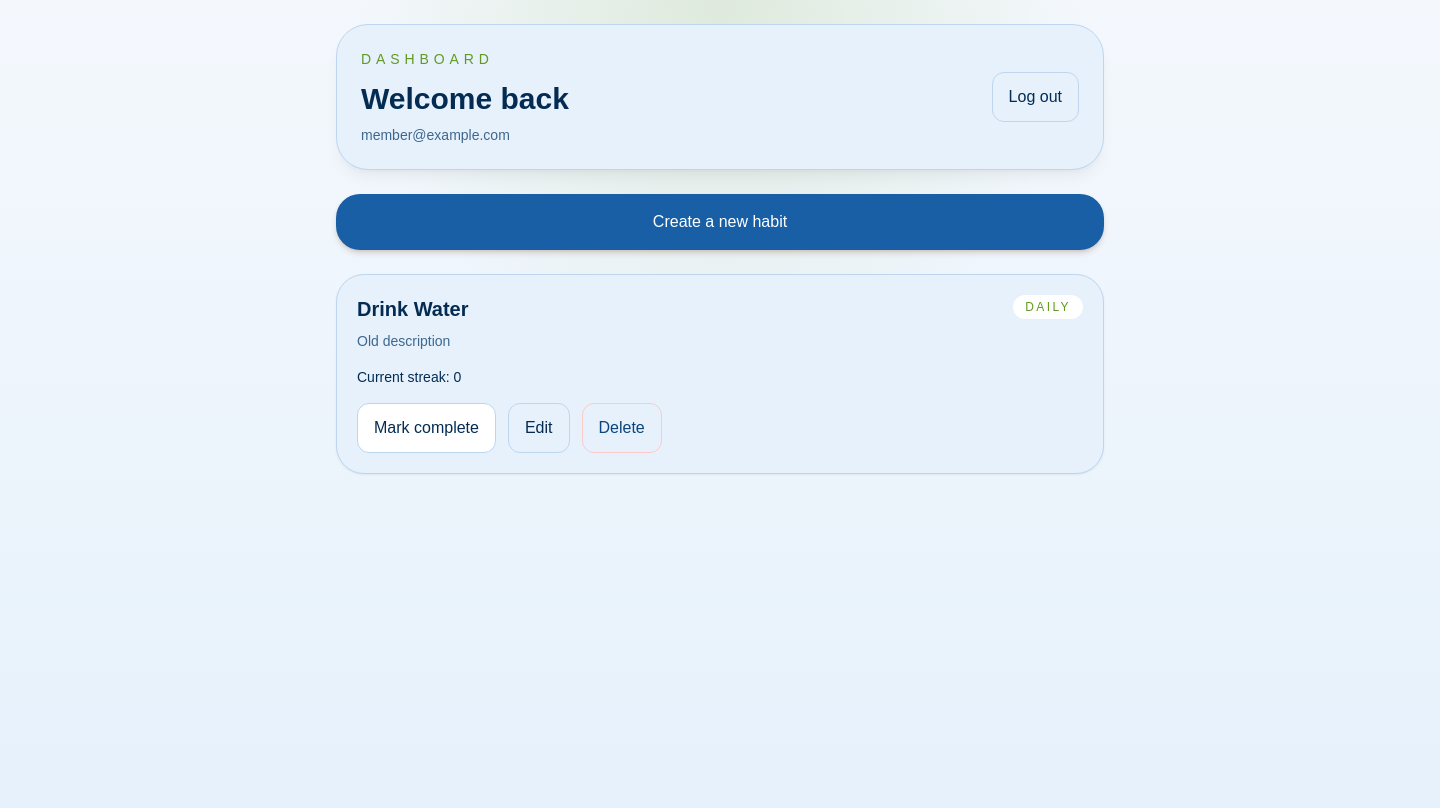
habit form › edits an existing habit and preserves immutable fields
The image size is (1440, 808).
Expected: the element with test id "dashboard-page" is shown, left=336, top=24, right=1104, bottom=474
Click the button with test id "habit-edit-drink-water" at coordinates (539, 428), box left=508, top=403, right=570, bottom=453
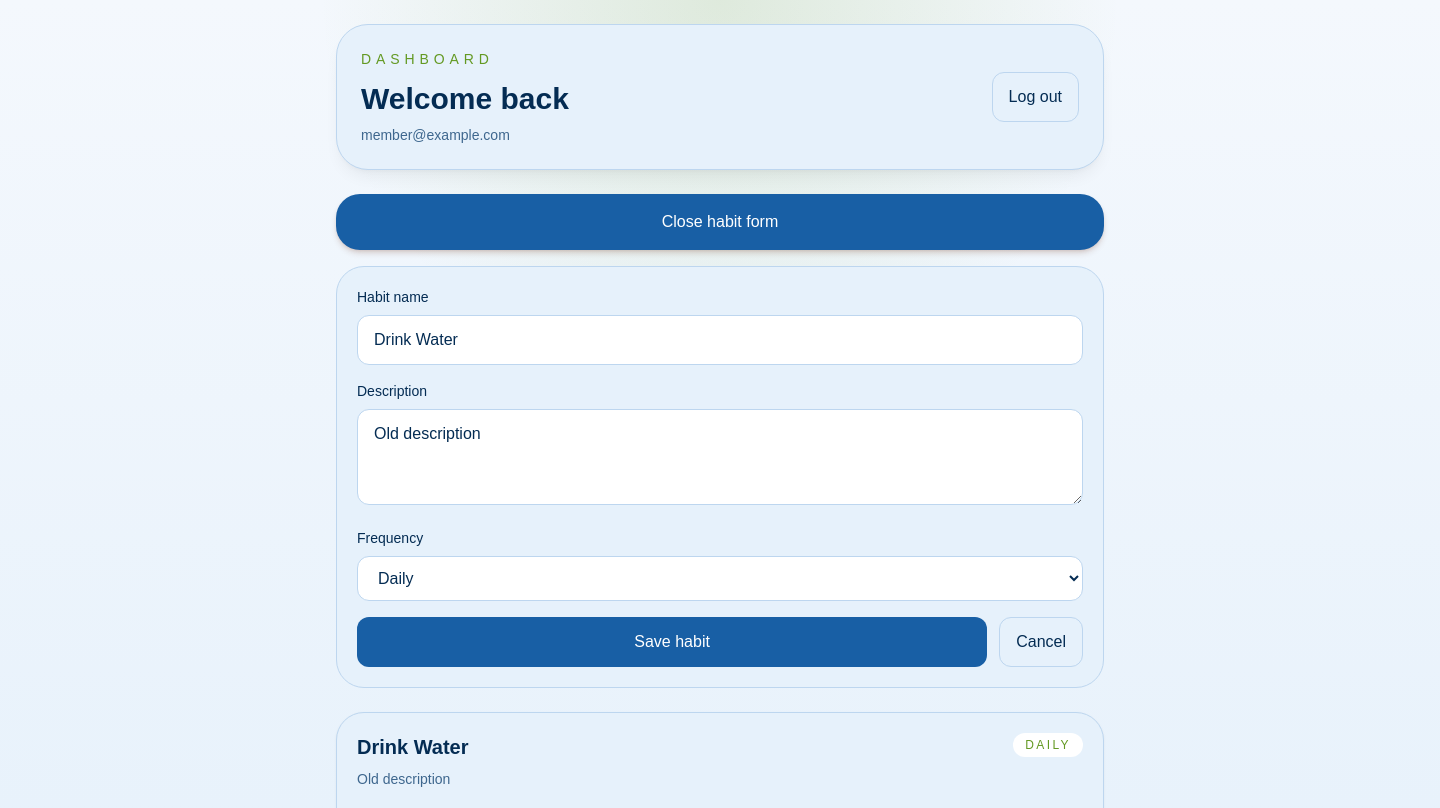
Replace the text in the field with test id "habit-name-input" with "Drink More Water" at coordinates (720, 340), box left=357, top=315, right=1083, bottom=365
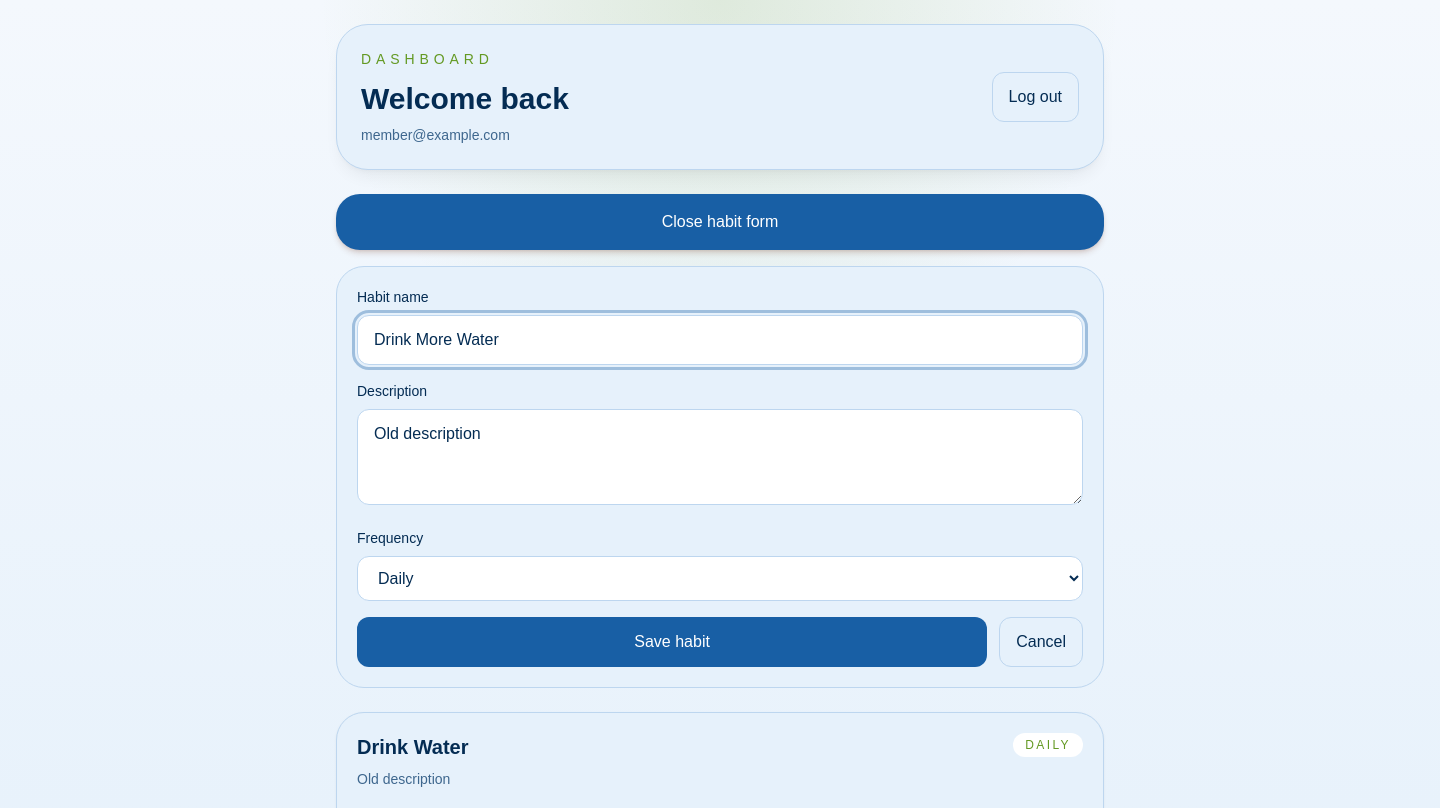
Replace the text in the text box with test id "habit-description-input" with "Updated description" at coordinates (720, 457), box left=357, top=409, right=1083, bottom=505
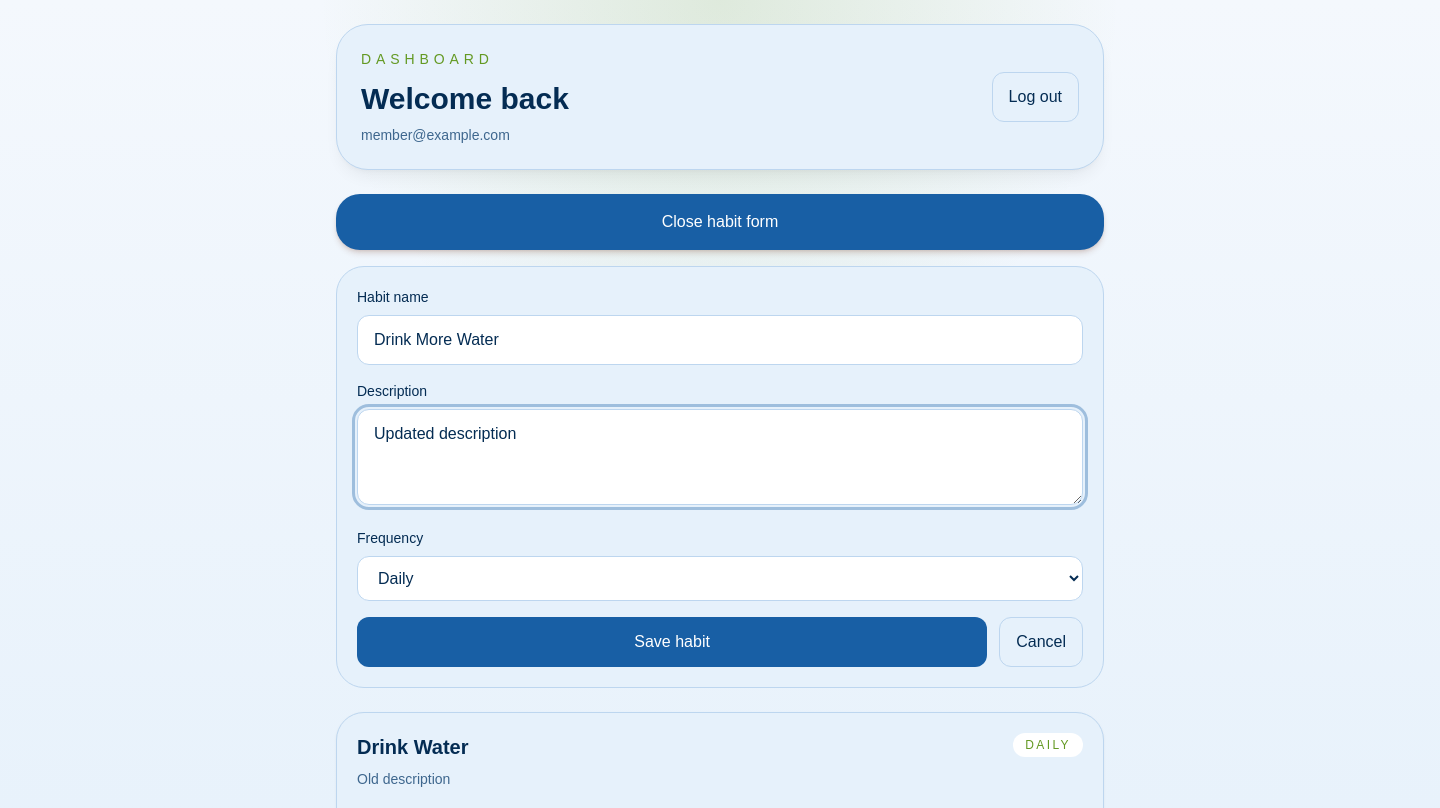
Click the button with test id "habit-save-button" at coordinates (672, 642), box left=357, top=617, right=987, bottom=667
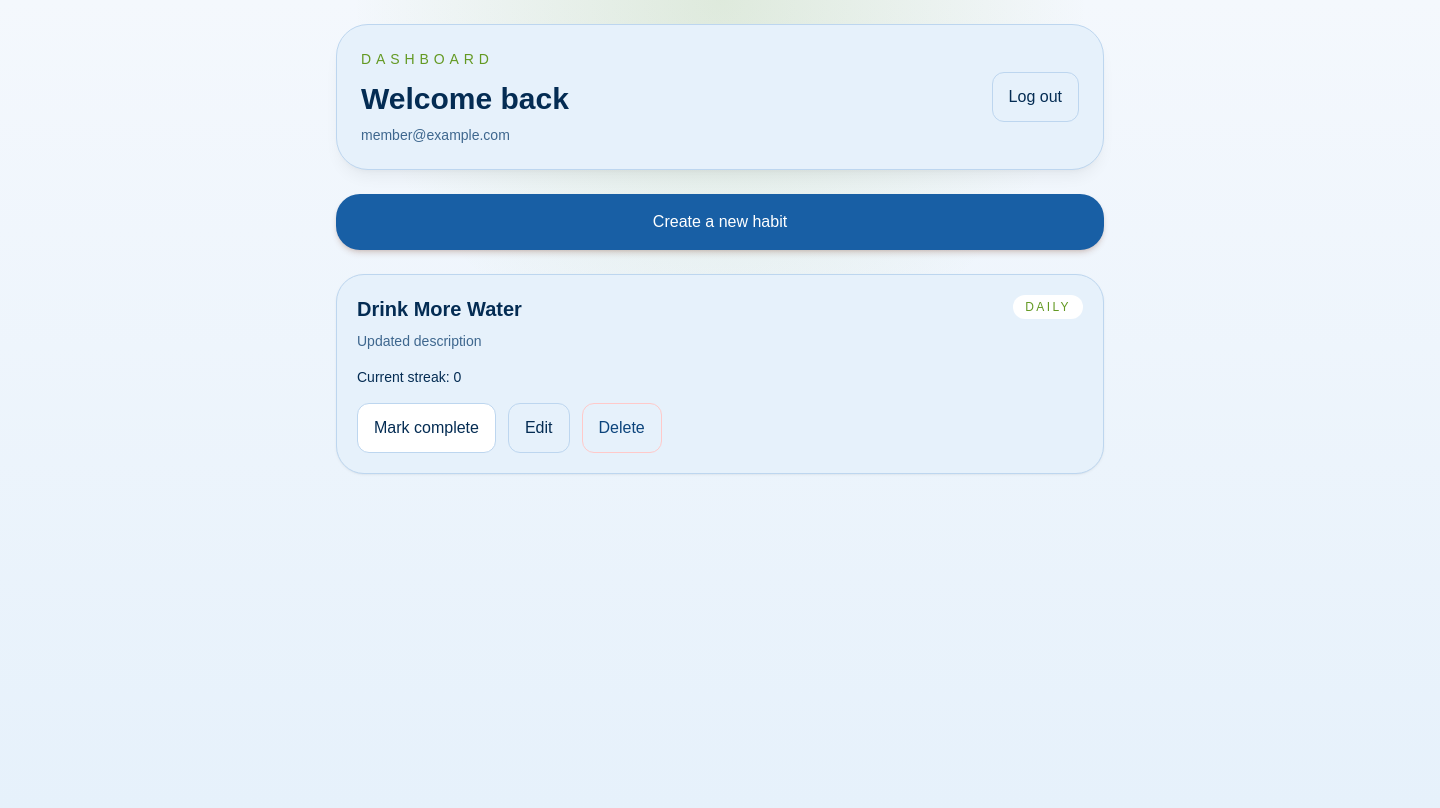
Now the element with test id "habit-card-drink-more-water" is shown, box left=336, top=274, right=1104, bottom=474
